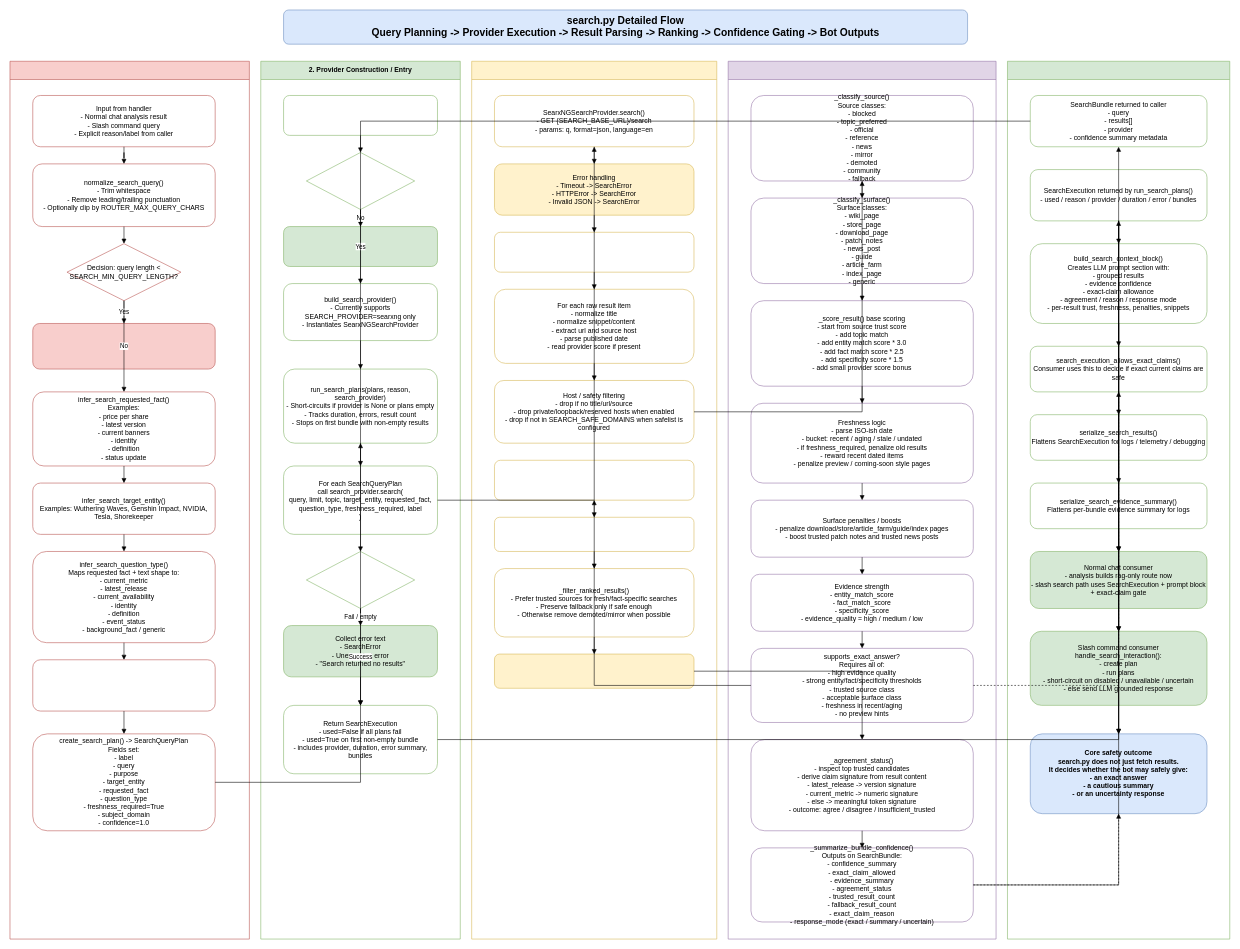
The diagram is 1240 pixels wide and 949 high, and some of its shapes have lost their labels. Each missing label, with the box of its shape:
1. Query Planning Layer: (9, 61, 249, 939)
3. SearXNG Request + Raw Result Parsing: (471, 61, 717, 939)
4. Ranking / Filtering / Evidence Analysis: (728, 61, 996, 939)
5. Bot-Facing Output / Consumers: (1007, 61, 1230, 939)
_parse_results(payload) Validate payload contains results list: (494, 232, 694, 272)
Build SearchResult skeleton then attach ranking metadata from _score_result(): (494, 460, 694, 500)
create_enabled_search_provider(enabled): (283, 95, 437, 135)
Decision: provider error / no results?: (306, 551, 415, 608)
Decision: SEARCH_ENABLED?: (306, 152, 415, 209)
infer_search_subject_domain() - finance - game - language - identity - general: (32, 659, 215, 711)
Return filtered ranked SearchResult[]: (494, 654, 694, 688)
Return None Caller replies with "too short / need more detail": (32, 323, 215, 369)
Return None Search unavailable / disabled path: (283, 226, 437, 266)
Sort descending by rank_score: (494, 517, 694, 551)
